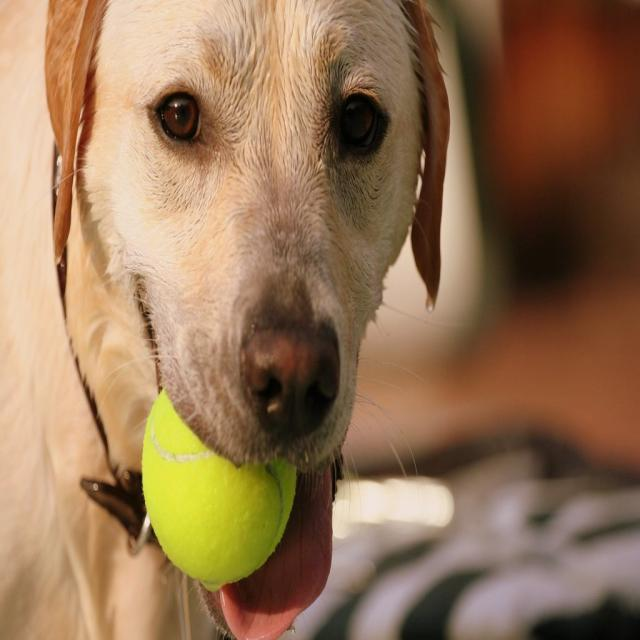Tennis ball: (142, 387, 297, 592)
